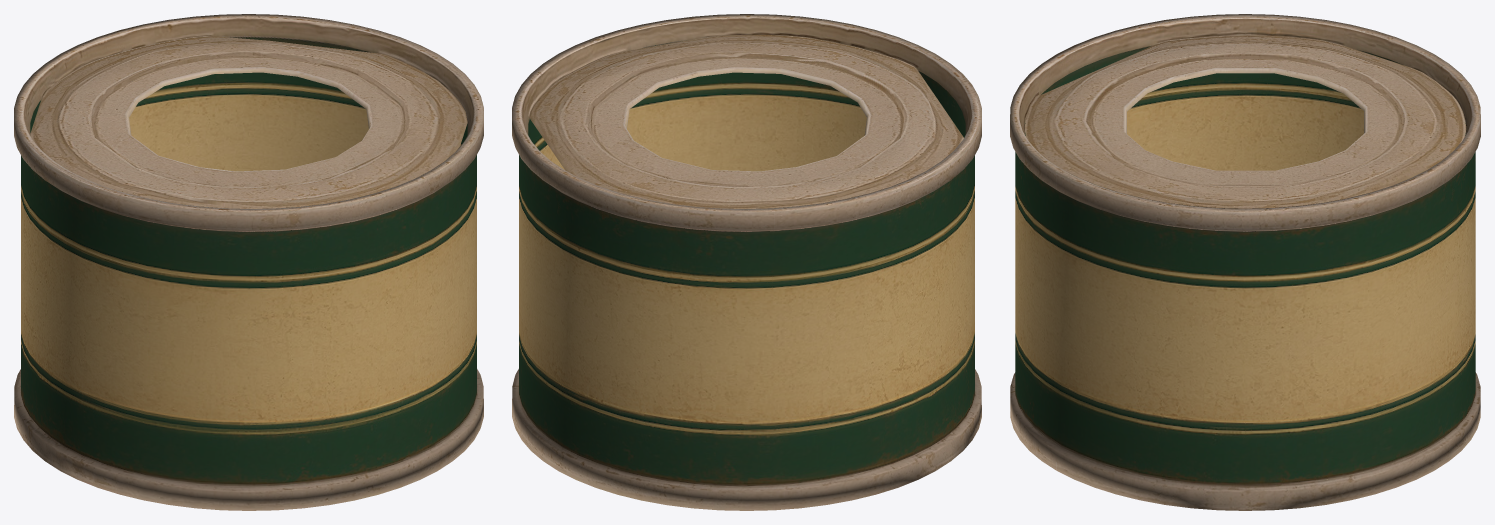
The model's file is P26_ingredient_can_Runtime_1k.glb.
3 renders of one model, left to right at view 1: azimuth 30°, elevation 25°; view 2: azimuth 150°, elevation 25°; view 3: azimuth 270°, elevation 25°, orthographic.
Parts seen in each view (by area): view 1: tripo_node_07fb457a; view 2: tripo_node_07fb457a; view 3: tripo_node_07fb457a.
Boxes of the visible parts, x1,y1,x2,y2 form: tripo_node_07fb457a: [14, 14, 483, 510]; tripo_node_07fb457a: [512, 14, 981, 510]; tripo_node_07fb457a: [1010, 14, 1480, 510].
Bounding box in the file's own units: 0.114 × 0.0796 × 0.114.
Materials: 1 (1 with a texture image).
